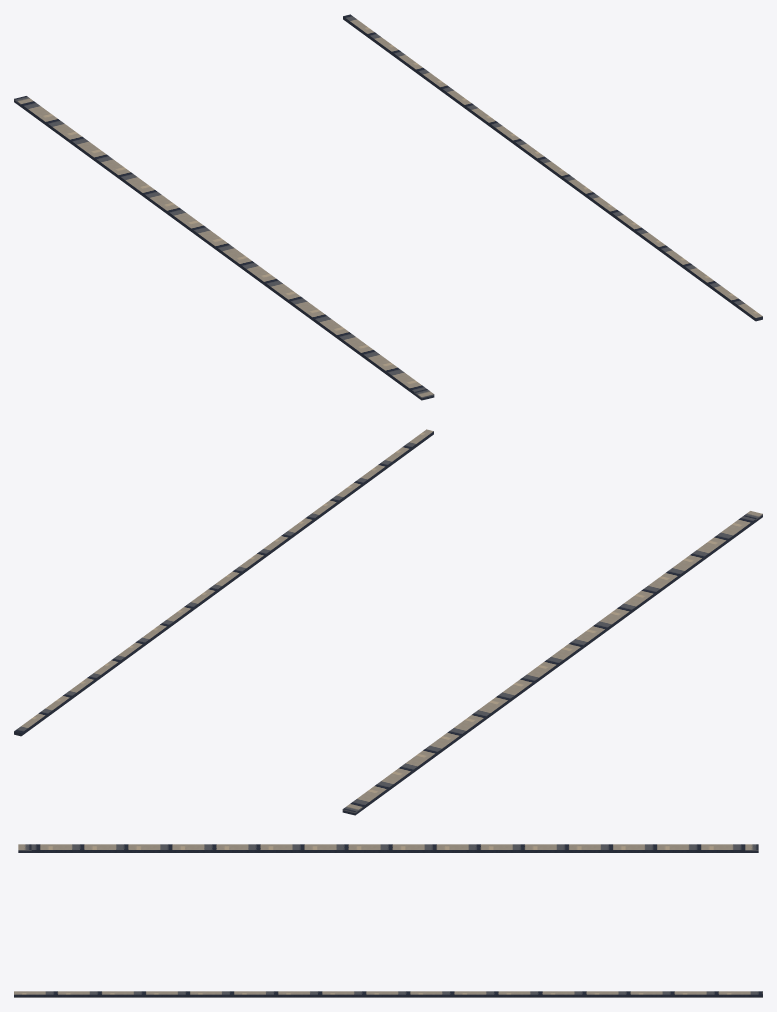
The model's file is lot_curbs.glb.
3 views of the same model, one above another, from view 1: azimuth 30°, elevation 25°; view 2: azimuth 150°, elevation 25°; view 3: azimuth 270°, elevation 25° (orthographic). The views are drawn at different scales.
Visible parts, largest first — view 1: lot_curbs; view 2: lot_curbs; view 3: lot_curbs.
Boxes of the visible parts, x1,y1,x2,y2 form: lot_curbs: [14, 14, 762, 400]; lot_curbs: [14, 429, 762, 815]; lot_curbs: [14, 844, 762, 997].
Bounding box in the file's own units: 16.13 × 0.15 × 34.
1 material, 1 textured.
